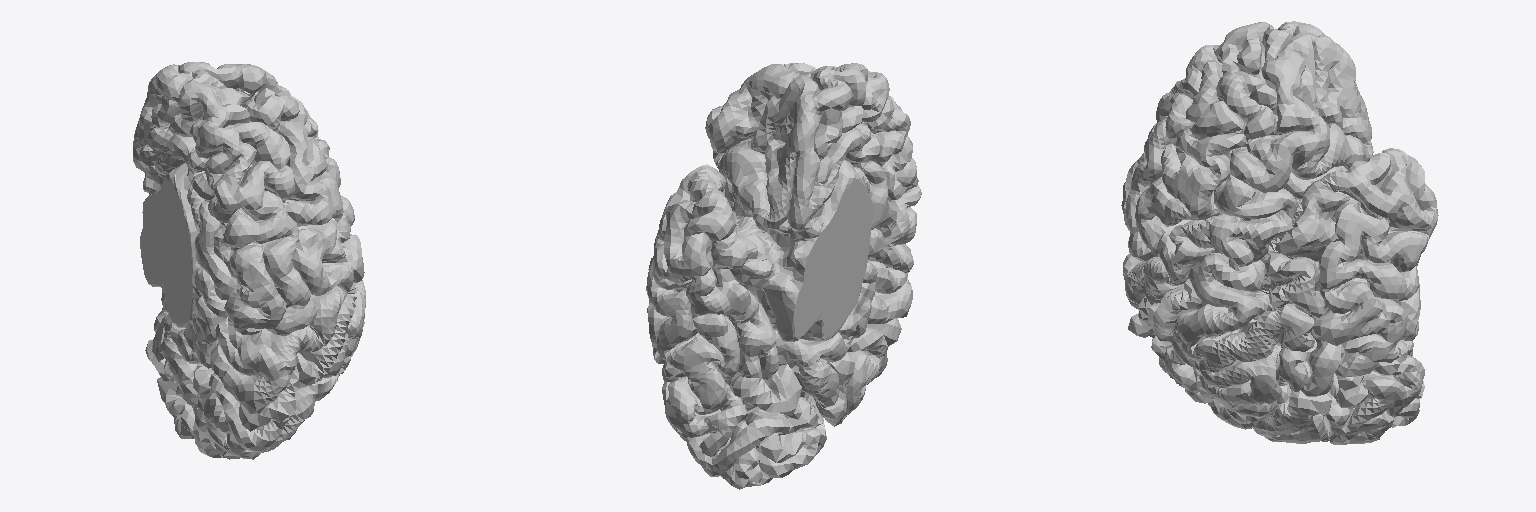
The model's file is pyvista_obj.obj.obj.
3 views of the same model, side by side, from view 1: azimuth 30°, elevation 25°; view 2: azimuth 150°, elevation 25°; view 3: azimuth 270°, elevation 25° (orthographic).
Visible parts, largest first — view 1: grp1; view 2: grp1; view 3: grp1.
Boxes of the visible parts, <box> form: grp1: <box>133,62,365,459</box>; grp1: <box>646,63,921,489</box>; grp1: <box>1121,21,1438,444</box>.
Size of the model in its own units: 50.77 by 107 by 77.71.